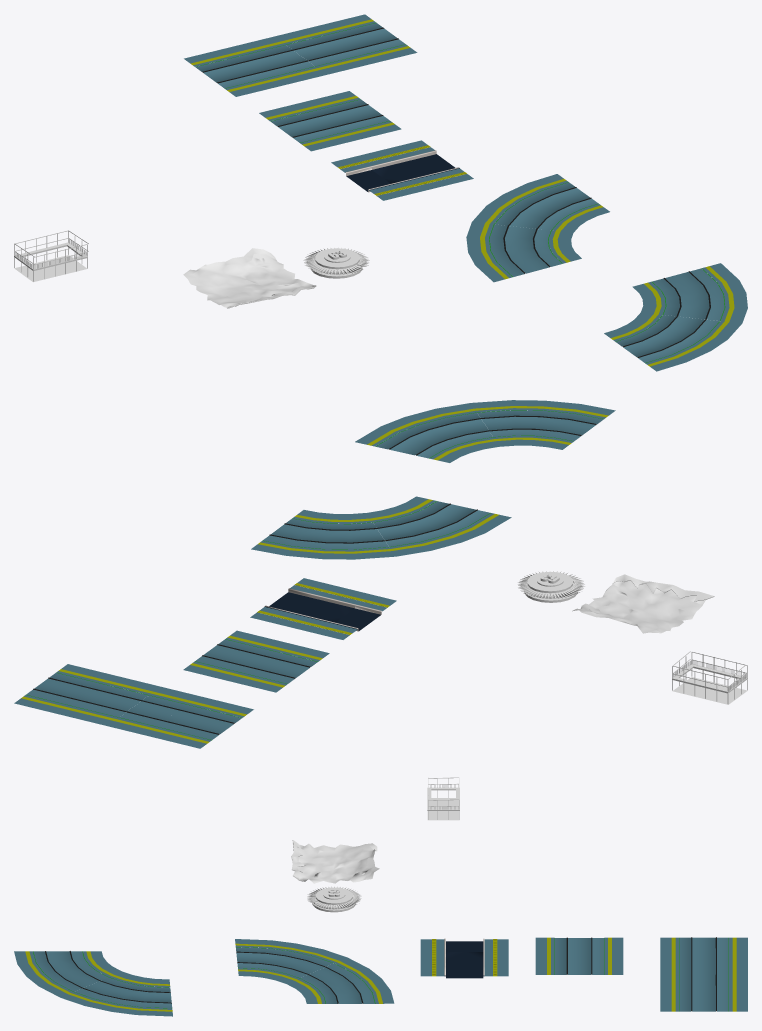
File: SILLETA.fbx
3 views of the same model, one above another, from view 1: azimuth 30°, elevation 25°; view 2: azimuth 150°, elevation 25°; view 3: azimuth 270°, elevation 25° (orthographic). The views are drawn at different scales.
Visible parts, largest first — view 1: Riel 003, Riel 006, Riel 007, carretera 1, Riel 1, Plane003, Plane001, Box002; view 2: Riel 003, Riel 006, Riel 007, carretera 1, Riel 1, Plane003, Plane001, Plane004, Box002; view 3: Riel 007, Riel 003, Riel 006, carretera 1, Riel 1, Plane003, Plane001.
Boxes of the visible parts, x1,y1,x2,y2 form: Riel 003: (184, 14, 417, 96); Riel 006: (466, 174, 609, 282); Riel 007: (604, 263, 747, 371); carretera 1: (331, 140, 473, 200); Riel 1: (259, 91, 401, 151); Plane003: (183, 253, 316, 308); Plane001: (14, 255, 87, 282); Box002: (14, 242, 87, 270); Riel 003: (14, 664, 253, 748); Riel 006: (251, 496, 511, 559); Riel 007: (355, 400, 615, 462); carretera 1: (250, 578, 396, 639); Riel 1: (183, 630, 329, 692); Plane003: (572, 580, 714, 633); Plane001: (672, 677, 747, 704); Plane004: (612, 574, 714, 601); Box002: (672, 664, 747, 693); Riel 007: (14, 951, 172, 1016); Riel 003: (660, 937, 747, 1011); Riel 006: (235, 939, 394, 1003); carretera 1: (420, 938, 508, 978); Riel 1: (535, 937, 623, 974); Plane003: (291, 841, 378, 883); Plane001: (427, 798, 459, 820).
Bounding box in the file's own units: 823 × 43.73 × 1169.
